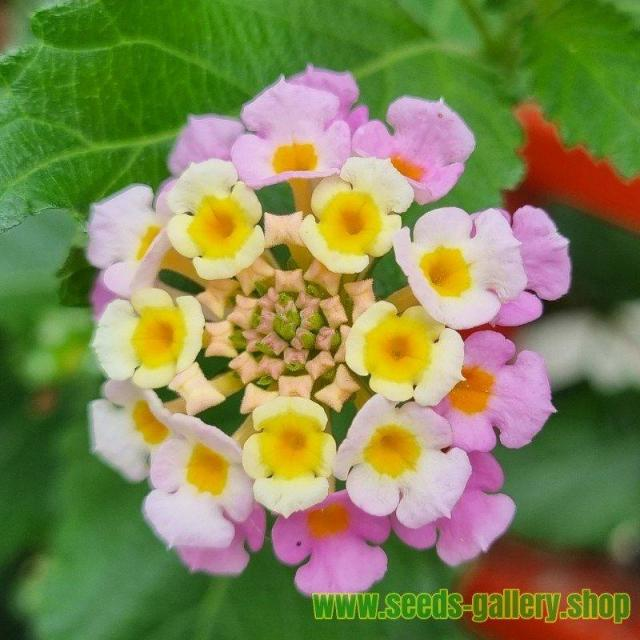organic waste: (66, 54, 568, 576)
